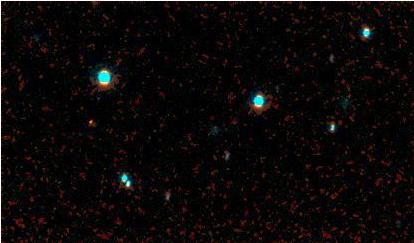star: (77, 107, 107, 137)
